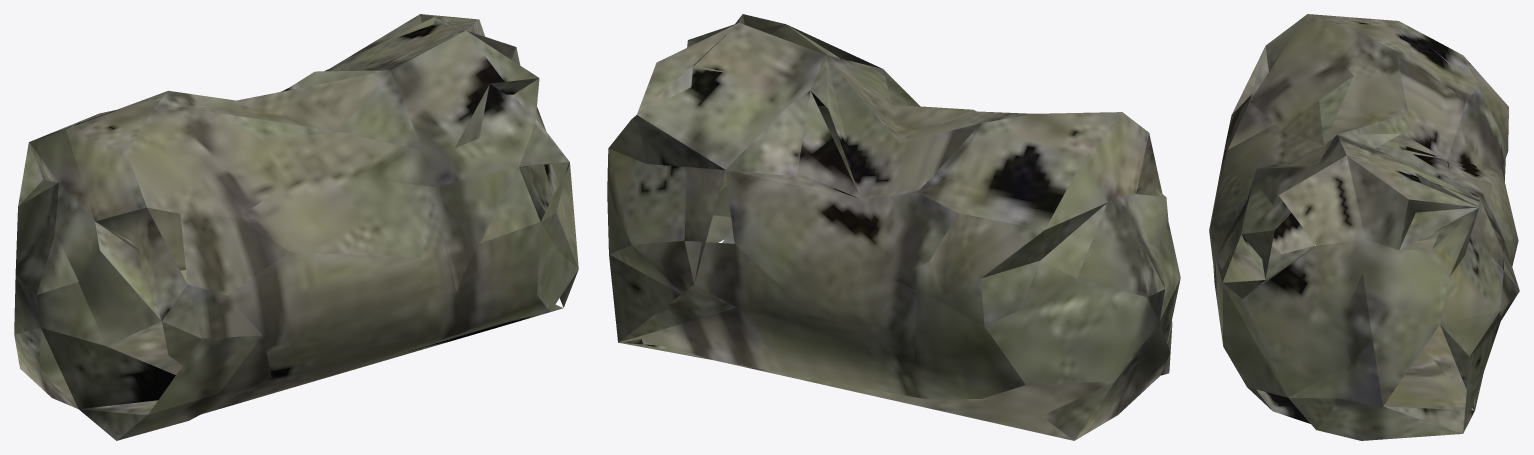
The model's file is sandbags_1617038676_lod1.glb.
3 views of the same model, side by side, from view 1: azimuth 30°, elevation 25°; view 2: azimuth 150°, elevation 25°; view 3: azimuth 270°, elevation 25° (orthographic). The views are drawn at different scales.
Bounding box in the file's own units: 2.58 × 1.39 × 1.47.
Materials: 1 (1 with a texture image).
